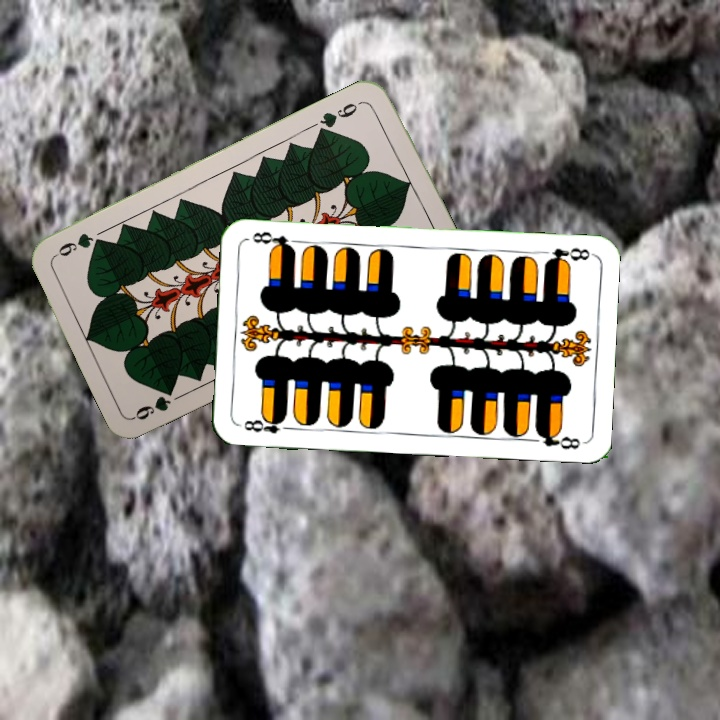E8: (240, 412, 295, 436), (540, 244, 594, 268)
G9: (314, 96, 367, 135), (131, 391, 174, 423)
